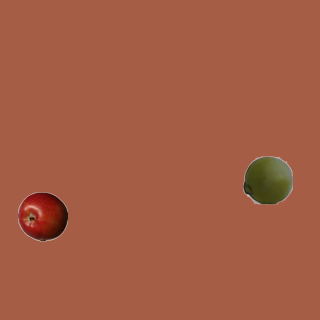Apple Braeburn: (17, 191, 67, 241)
Grape White 4: (242, 154, 292, 204)
